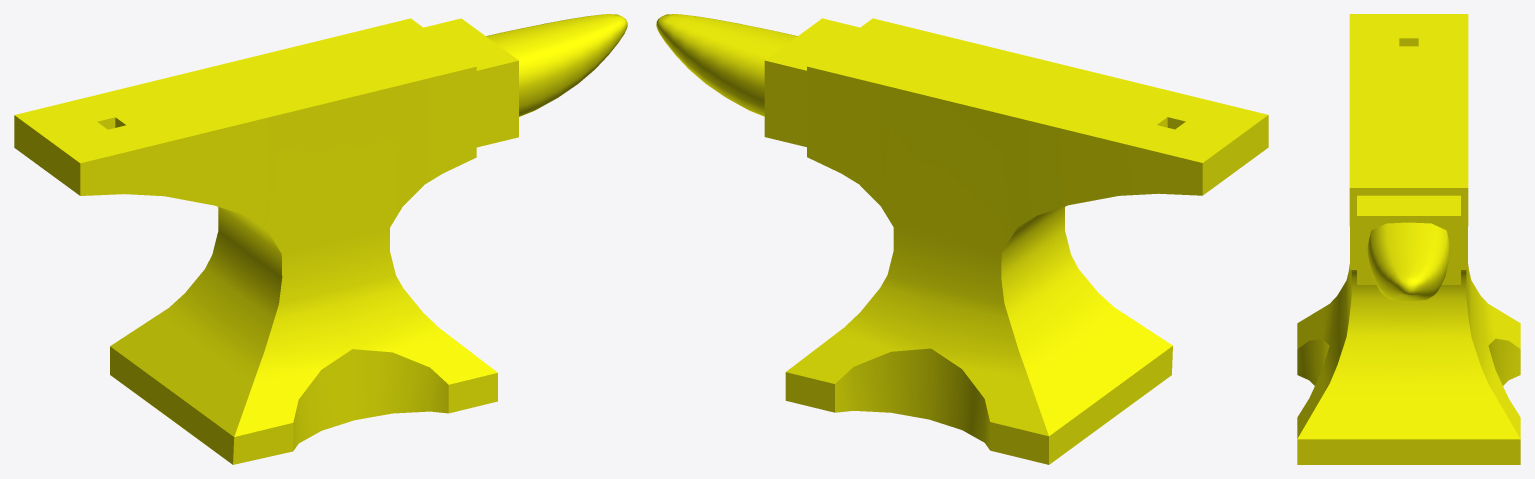
File: anvil.glb
3 views of the same model, side by side, from view 1: azimuth 30°, elevation 25°; view 2: azimuth 150°, elevation 25°; view 3: azimuth 270°, elevation 25° (orthographic). The views are drawn at different scales.
Parts seen in each view (by area): view 1: Anvil; view 2: Anvil; view 3: Anvil.
Part boxes in pixels (bbox=[...]): Anvil: bbox=[14, 14, 627, 464]; Anvil: bbox=[656, 14, 1268, 464]; Anvil: bbox=[1297, 14, 1520, 464].
Bounding box in the file's own units: 1.08 × 0.556 × 0.4016.
1 material, 1 textured.
